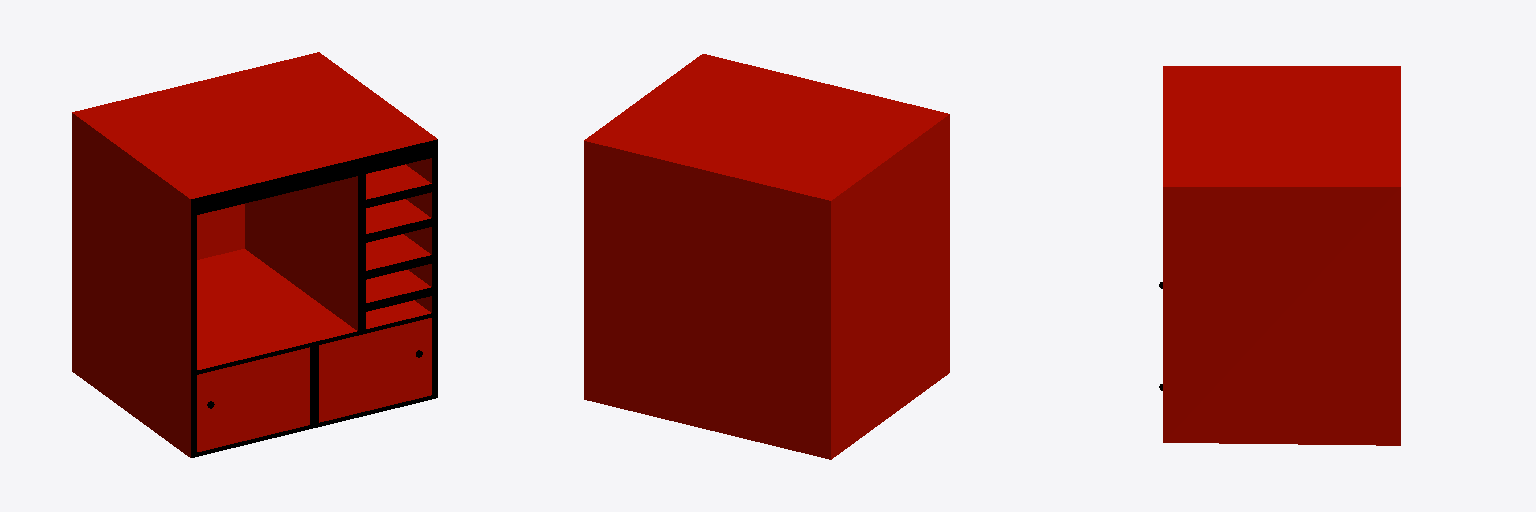
The model's file is Entertaintment_center_obj.obj_v001.obj.
The picture shows the model from 3 angles: view 1: azimuth 30°, elevation 25°; view 2: azimuth 150°, elevation 25°; view 3: azimuth 270°, elevation 25°; orthographic projection.
Parts seen in each view (by area): view 1: Entertaintment_center_obj.obj_v001.obj; view 2: Entertaintment_center_obj.obj_v001.obj; view 3: Entertaintment_center_obj.obj_v001.obj.
Part boxes in pixels (x1,y1,x2,y2): Entertaintment_center_obj.obj_v001.obj: (72,52,437,457); Entertaintment_center_obj.obj_v001.obj: (584,54,949,459); Entertaintment_center_obj.obj_v001.obj: (1159,66,1400,445).
Bounding box in the file's own units: 21.6 × 21.6 × 18.32.